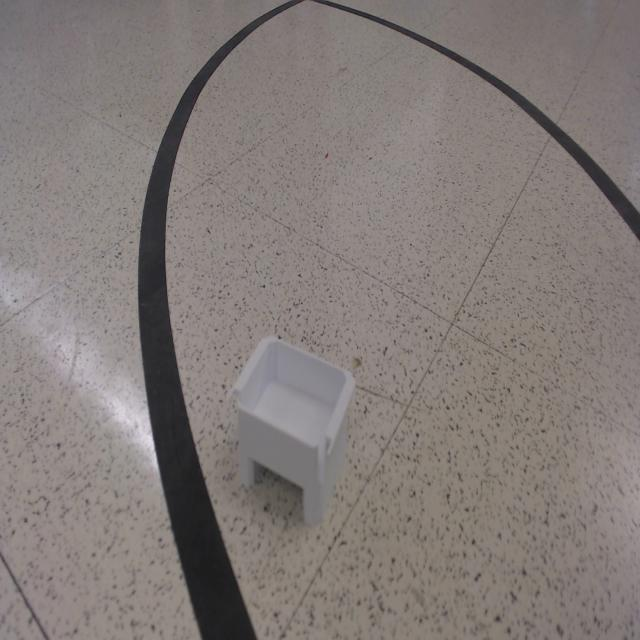wbox: (227, 332, 357, 527)
